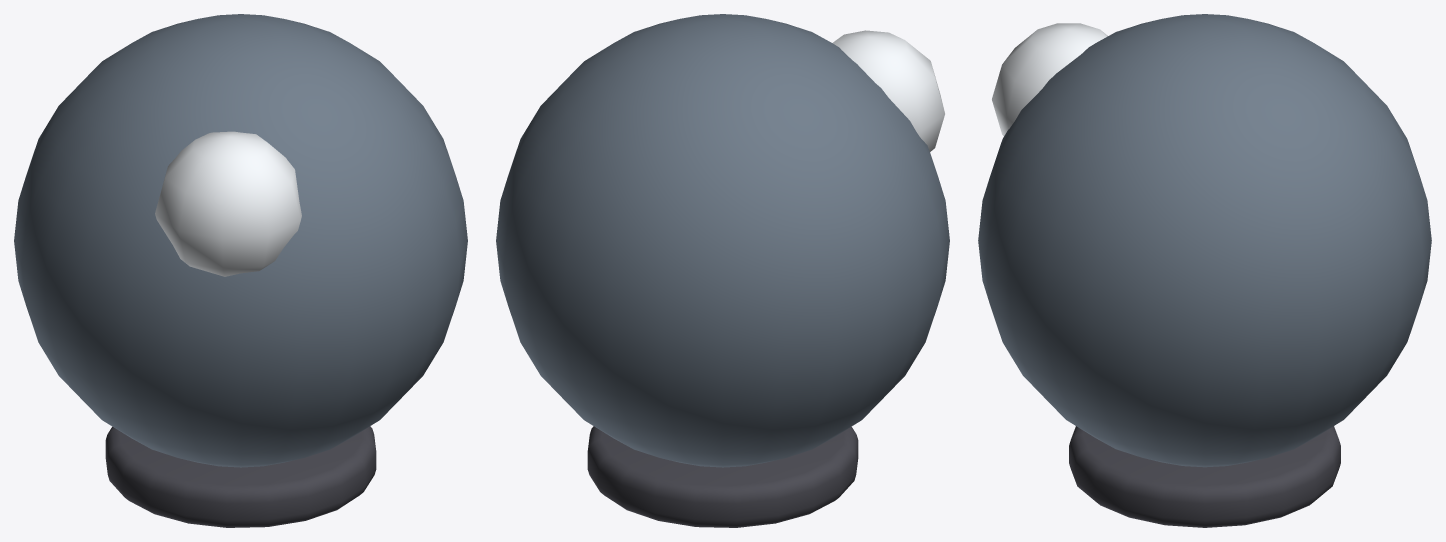
Rendered from steel_ball.glb.
3 renders of one model, left to right at view 1: azimuth 30°, elevation 25°; view 2: azimuth 150°, elevation 25°; view 3: azimuth 270°, elevation 25°, orthographic.
Parts seen in each view (by area): view 1: steel_ball; view 2: steel_ball; view 3: steel_ball.
Part boxes in pixels (<box>): steel_ball: <box>14,14,467,527</box>; steel_ball: <box>496,14,949,527</box>; steel_ball: <box>978,14,1431,527</box>.
Size of the model in its own units: 1 by 1.07 by 1.
